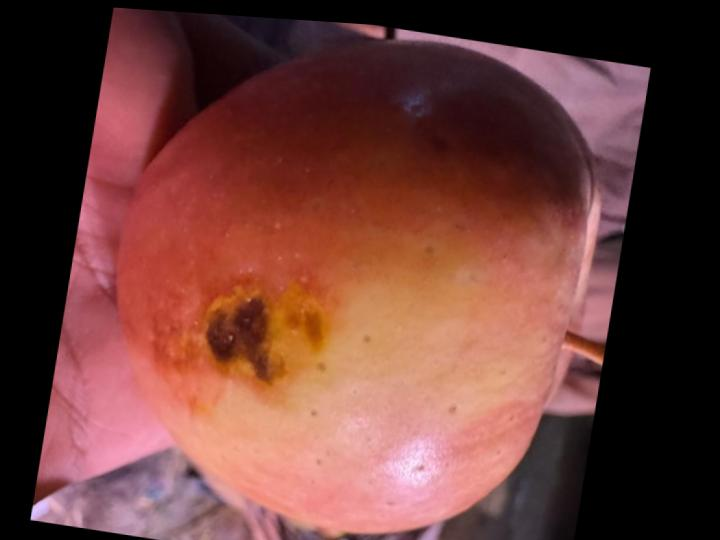apple: (117, 40, 605, 533)
surface_damage: (203, 283, 288, 396)
